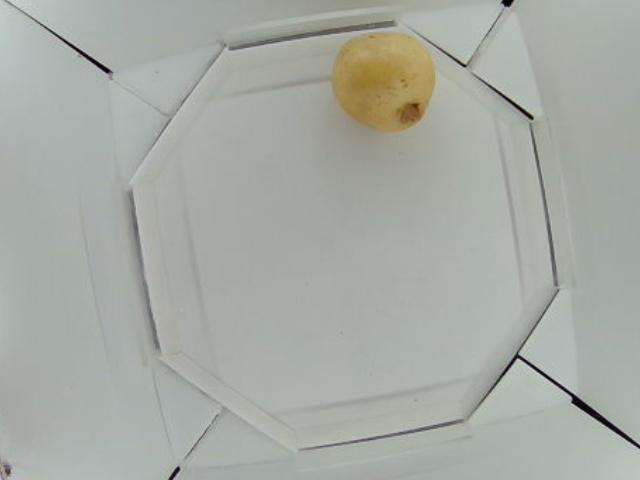Potato: (333, 32, 436, 132)
